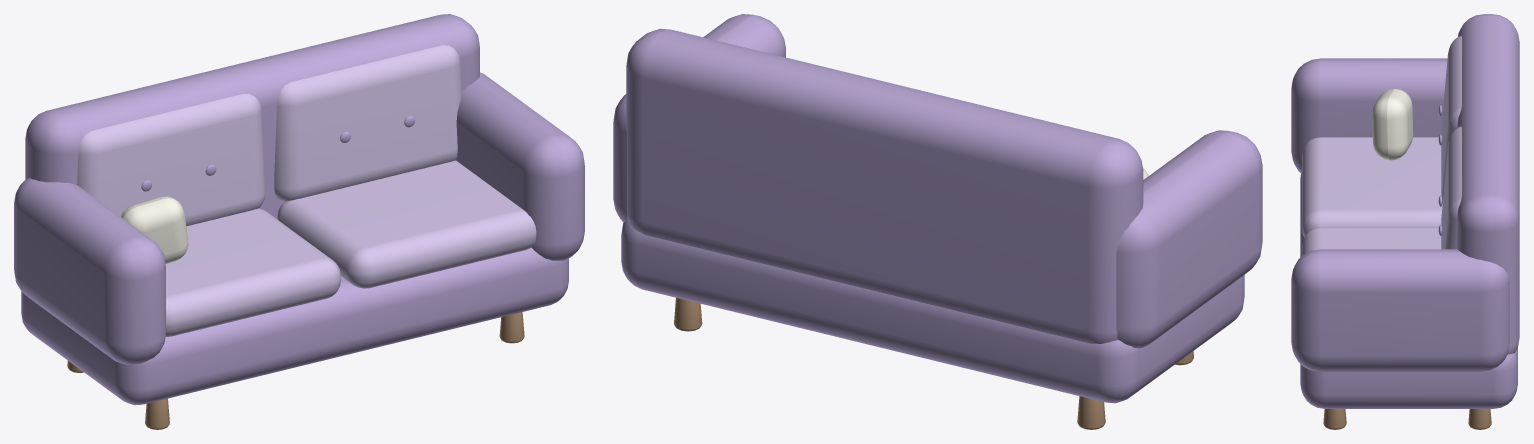
The model's file is sofa.glb.
3 renders of one model, left to right at view 1: azimuth 30°, elevation 25°; view 2: azimuth 150°, elevation 25°; view 3: azimuth 270°, elevation 25°, orthographic. The views are drawn at different scales.
Visible parts, largest first — view 1: Upholstered base, Back cushion.001, Seat cushion.001, Round armrest, Continuous back, Back cushion, Seat cushion, Round armrest.001, Accent pillow, Oak foot.002, Oak foot; view 2: Continuous back, Upholstered base, Round armrest, Round armrest.001, Oak foot.001, Oak foot.003; view 3: Round armrest.001, Continuous back, Seat cushion, Round armrest, Upholstered base, Seat cushion.001, Accent pillow, Back cushion.001, Back cushion, Oak foot.002, Oak foot.003.
Part boxes in pixels (x1,y1,x2,y2): Upholstered base: (21,247,568,405); Back cushion.001: (274,45,461,202); Seat cushion.001: (277,160,536,288); Round armrest: (14,178,165,364); Continuous back: (25,14,479,218); Back cushion: (77,94,265,226); Seat cushion: (165,208,340,336); Round armrest.001: (456,72,584,260); Accent pillow: (121,196,188,263); Oak foot.002: (499,312,524,343); Oak foot: (145,398,169,429); Continuous back: (626,28,1143,343); Upholstered base: (621,220,1244,403); Round armrest: (1116,130,1262,348); Round armrest.001: (613,14,785,222); Oak foot.001: (1077,396,1105,429); Oak foot.003: (674,297,702,331); Round armrest.001: (1291,249,1509,371); Continuous back: (1457,14,1519,354); Seat cushion: (1302,137,1442,237); Round armrest: (1291,58,1447,173); Upholstered base: (1300,173,1517,408); Seat cushion.001: (1302,227,1441,255); Accent pillow: (1372,88,1413,160); Back cushion.001: (1441,126,1461,249); Back cushion: (1441,36,1461,203); Oak foot.002: (1323,409,1346,429); Oak foot.003: (1468,409,1491,429).
Bounding box in the file's own units: 3.12 × 1.6 × 1.39.
